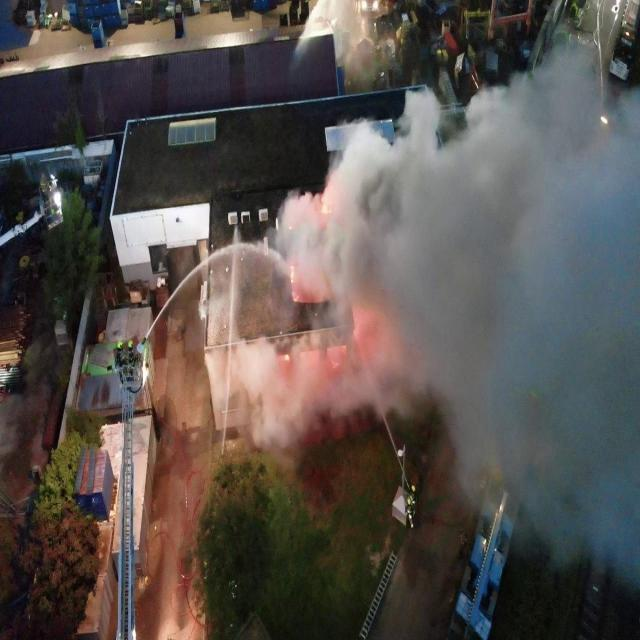Fire: (290, 264, 294, 284), (321, 204, 328, 214), (285, 354, 289, 362)
Smoke: (198, 33, 640, 595)
